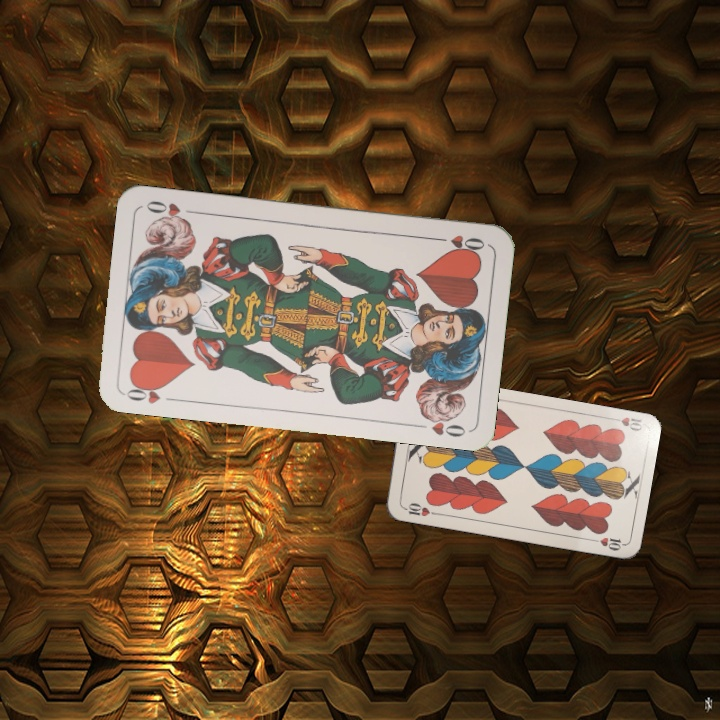H10: (605, 413, 645, 434), (399, 499, 439, 519)
HO: (121, 378, 180, 406), (430, 231, 488, 256)
